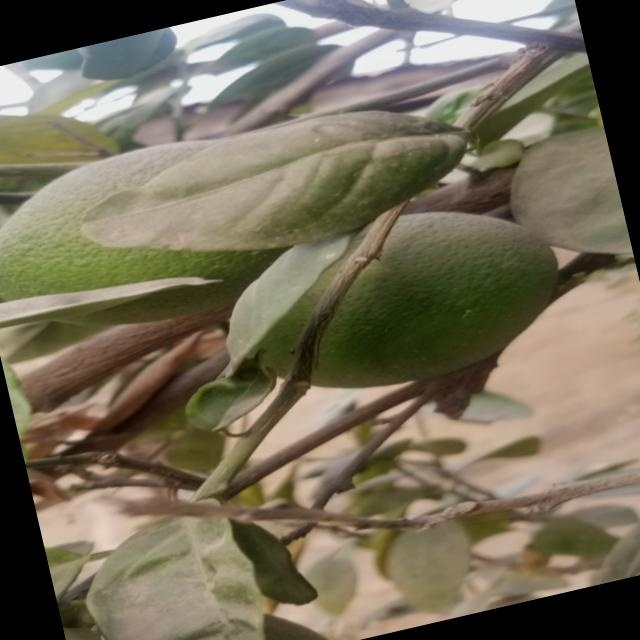agrume: (237, 182, 579, 406), (0, 118, 302, 353)
